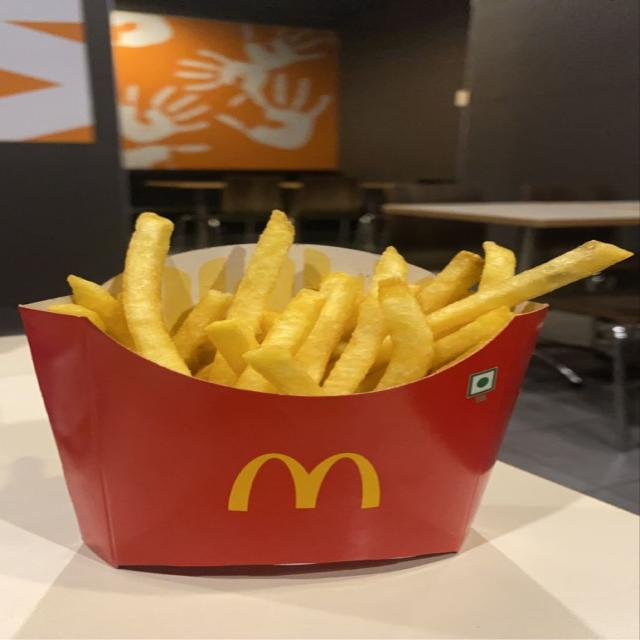potato fries: (50, 211, 632, 395), (427, 241, 632, 337), (323, 247, 407, 394), (123, 213, 190, 374), (228, 211, 294, 334), (296, 272, 359, 382), (376, 278, 433, 390), (432, 307, 512, 368), (67, 275, 133, 348), (174, 290, 232, 370), (261, 290, 325, 355), (417, 251, 483, 314), (244, 347, 324, 395), (206, 320, 258, 375), (433, 340, 489, 373), (478, 242, 516, 290), (48, 304, 105, 331), (259, 310, 280, 339), (211, 355, 224, 381)
